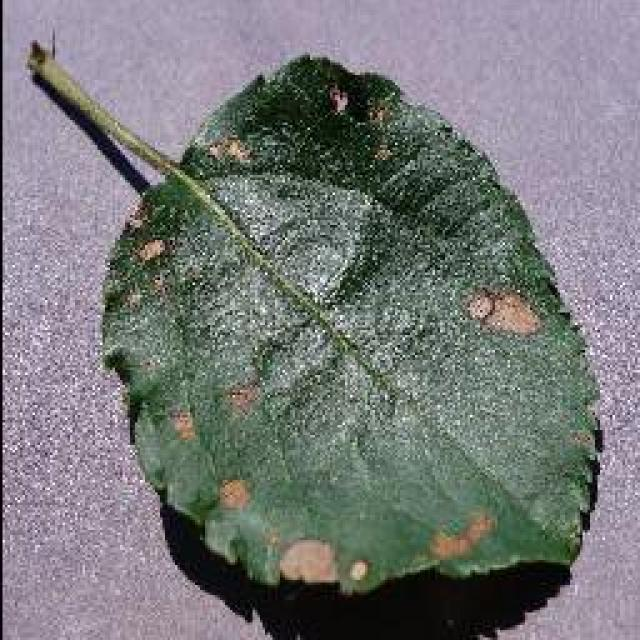Black_rot: (25, 38, 603, 598)
